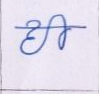i_matra: (52, 14, 68, 50)
